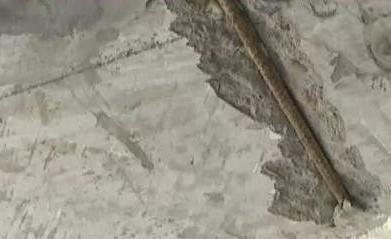Exposed reinforcement: (215, 1, 354, 207)
Spalling: (162, 1, 385, 229)
